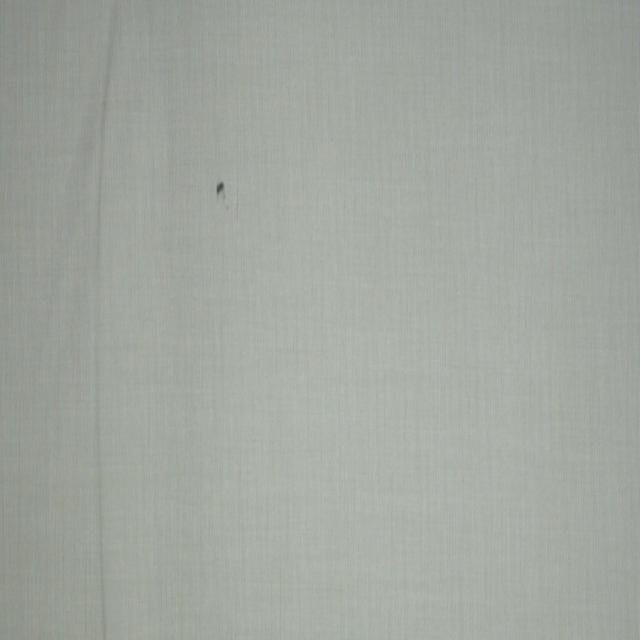dirty: (216, 183, 224, 196)
